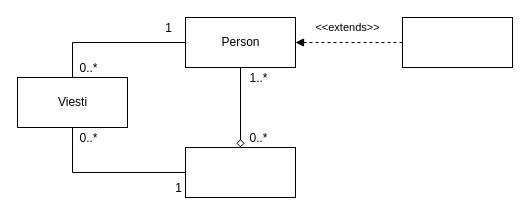
The diagram is 530 pixels wide and 215 high, and some of its shapes have lost their labels. Each missing label, with the box of its shape:
Admin: (402, 16, 512, 68)
Kyyti: (184, 146, 296, 198)
